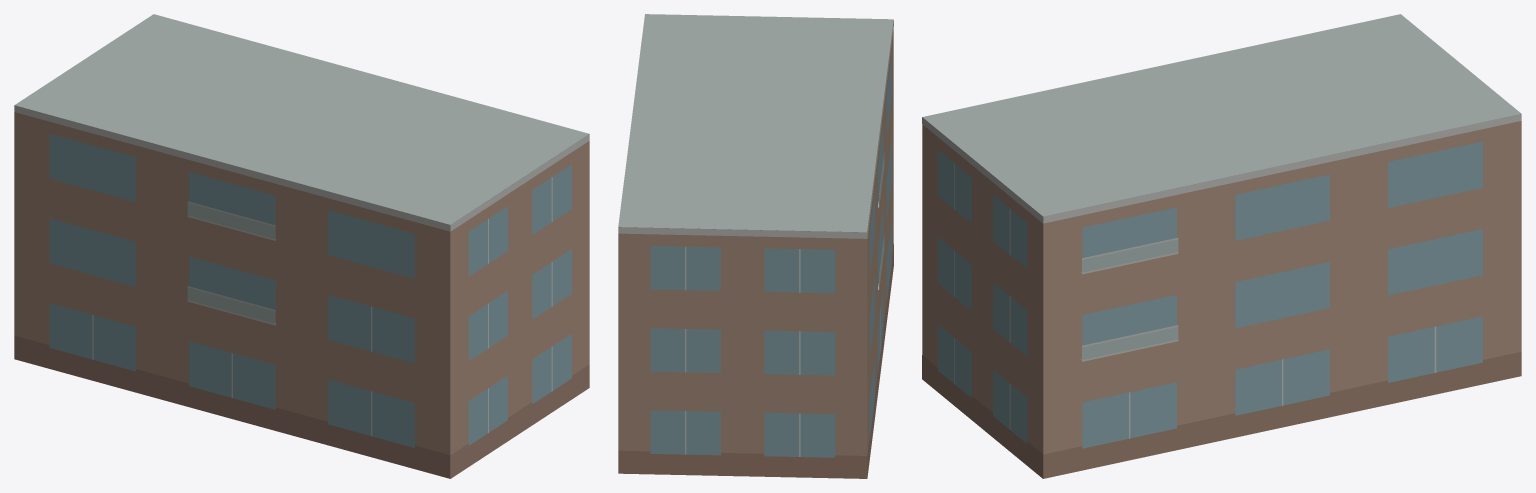
Rendered from survey-upis-32699180.glb.
3 views of the same model, side by side, from view 1: azimuth 30°, elevation 25°; view 2: azimuth 150°, elevation 25°; view 3: azimuth 270°, elevation 25° (orthographic). The views are drawn at different scales.
Visible parts, largest first — view 1: survey-upis-32699180.tmp; view 2: survey-upis-32699180.tmp; view 3: survey-upis-32699180.tmp.
Part boxes in pixels (left/top/right/bottom): survey-upis-32699180.tmp: left=14, top=14, right=589, bottom=478; survey-upis-32699180.tmp: left=618, top=14, right=893, bottom=478; survey-upis-32699180.tmp: left=922, top=14, right=1521, bottom=478.
Size of the model in its own units: 15.17 by 9.15 by 18.97.
